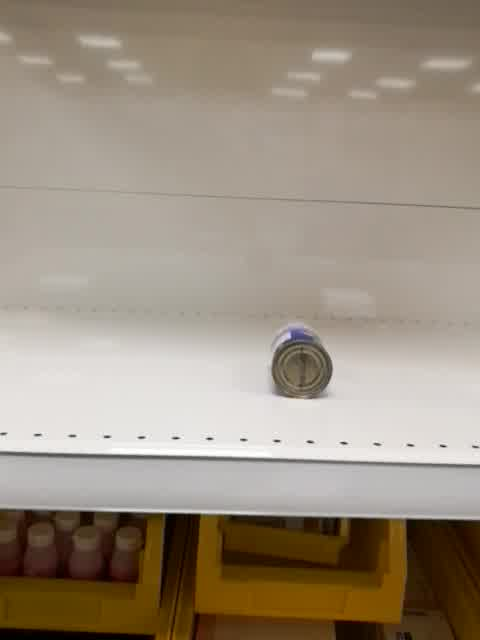sardine: (267, 321, 335, 401)
